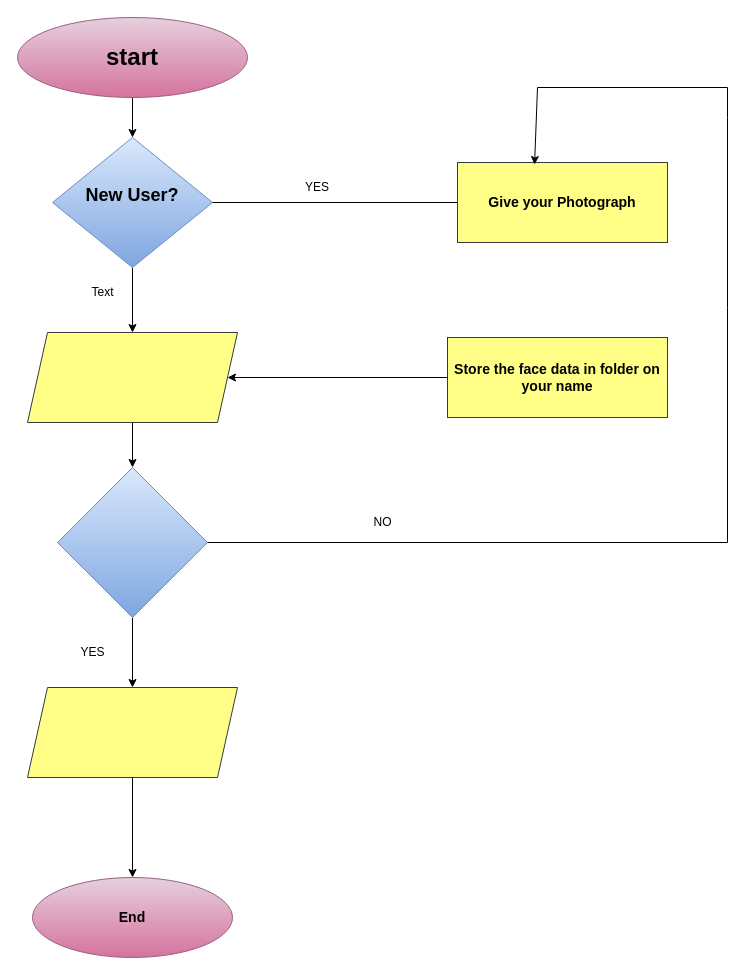
Some shapes in this 753 by 975 pixel diagram are drawn without their labels. The box of each missing label's shape, as (x1, y1, x2, y2) in pixels:
Face recognaization: (56, 466, 208, 618)
Recognize the face: (26, 332, 238, 422)
Stored in CSV file with registration number & Data Time of Entry: (26, 686, 238, 778)
